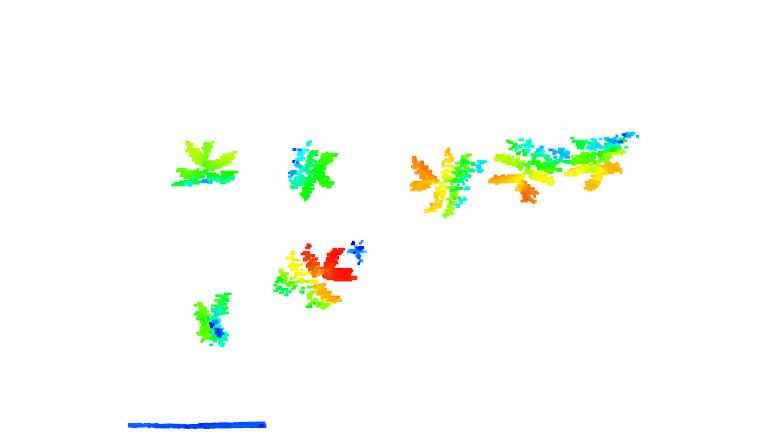chickpea: (268, 240, 359, 313), (407, 145, 487, 220), (487, 137, 568, 207), (562, 128, 640, 192), (167, 139, 239, 189), (289, 138, 340, 201), (190, 288, 237, 348)
